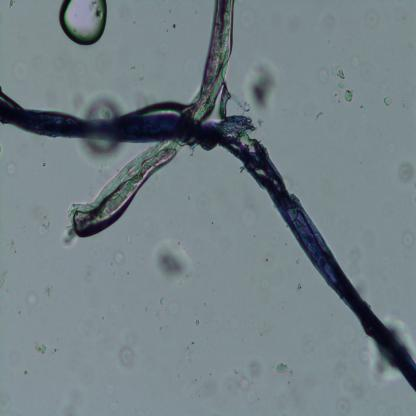Air bubble: (59, 1, 107, 45)
Background material: (82, 93, 126, 160), (342, 346, 390, 398), (156, 242, 192, 286), (248, 61, 280, 109), (56, 379, 92, 416), (236, 2, 259, 32), (31, 205, 53, 234), (240, 356, 263, 380), (319, 12, 339, 35), (180, 340, 198, 364), (244, 205, 260, 231), (364, 9, 383, 30), (398, 161, 414, 182), (118, 348, 135, 366), (110, 250, 126, 268), (330, 64, 348, 79), (336, 396, 350, 415), (274, 362, 290, 377), (32, 340, 47, 356), (347, 53, 361, 70), (26, 289, 39, 307), (403, 230, 415, 249), (104, 398, 118, 414), (238, 376, 251, 393), (7, 160, 20, 177), (315, 72, 330, 86), (0, 265, 11, 283), (8, 238, 18, 254), (292, 280, 302, 295), (168, 302, 181, 313), (279, 300, 288, 315), (345, 90, 354, 103), (105, 383, 113, 397), (382, 97, 392, 106), (315, 110, 322, 121), (169, 21, 177, 30), (193, 318, 202, 326), (158, 296, 164, 307), (22, 368, 30, 376), (155, 312, 162, 320), (159, 327, 164, 335), (52, 349, 56, 355)
Cellulose filter fibre: (68, 1, 236, 242)
Cotton: (0, 85, 416, 393)
